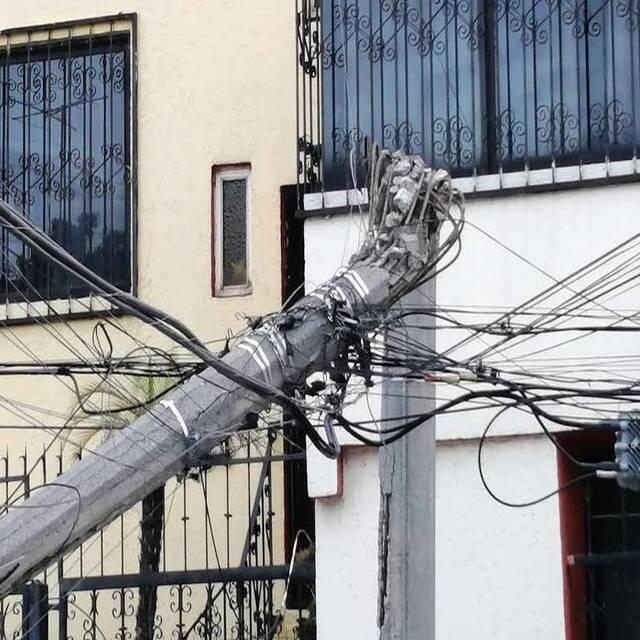Inclined Pole: (0, 131, 470, 640)
